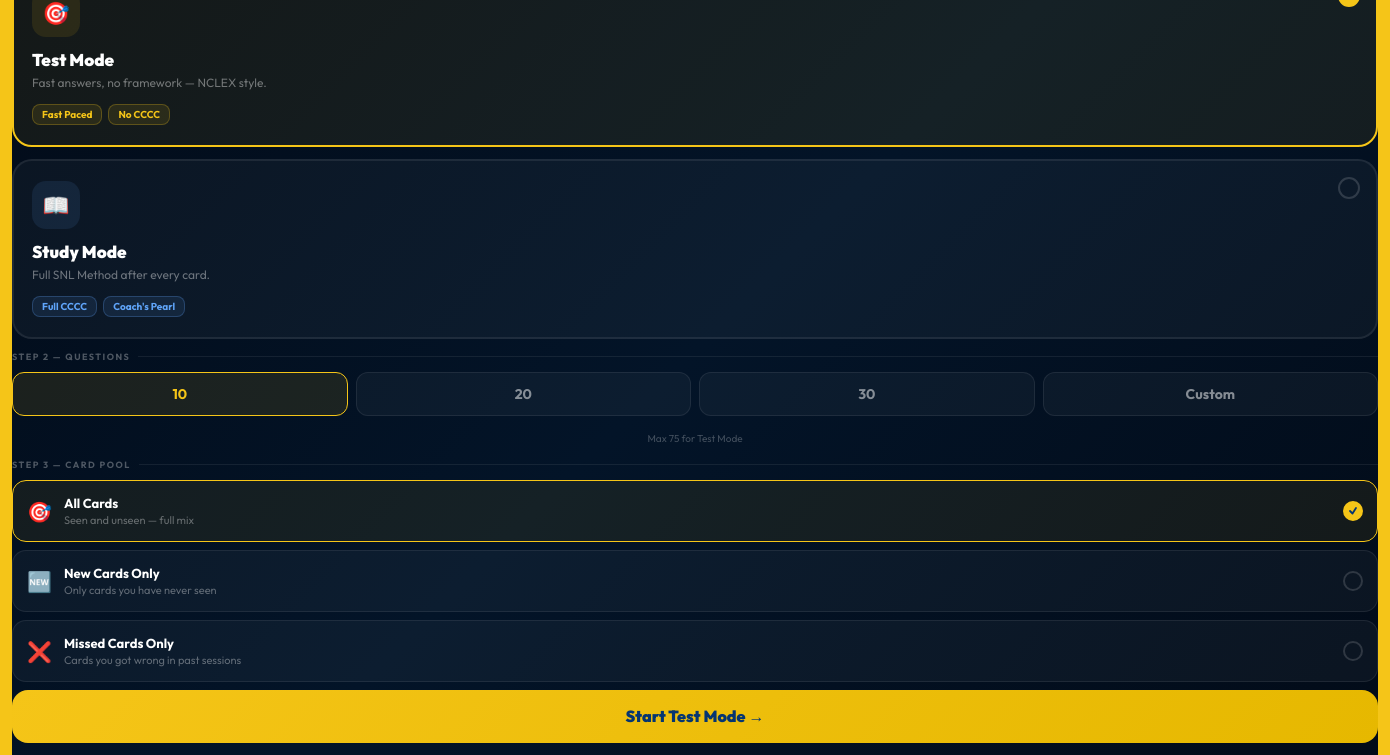
Test: SessionSetup › shows error when fetch throws
(page scrolled)
Click the button "Start Test Mode →": (695, 717) [12,690,1378,743]
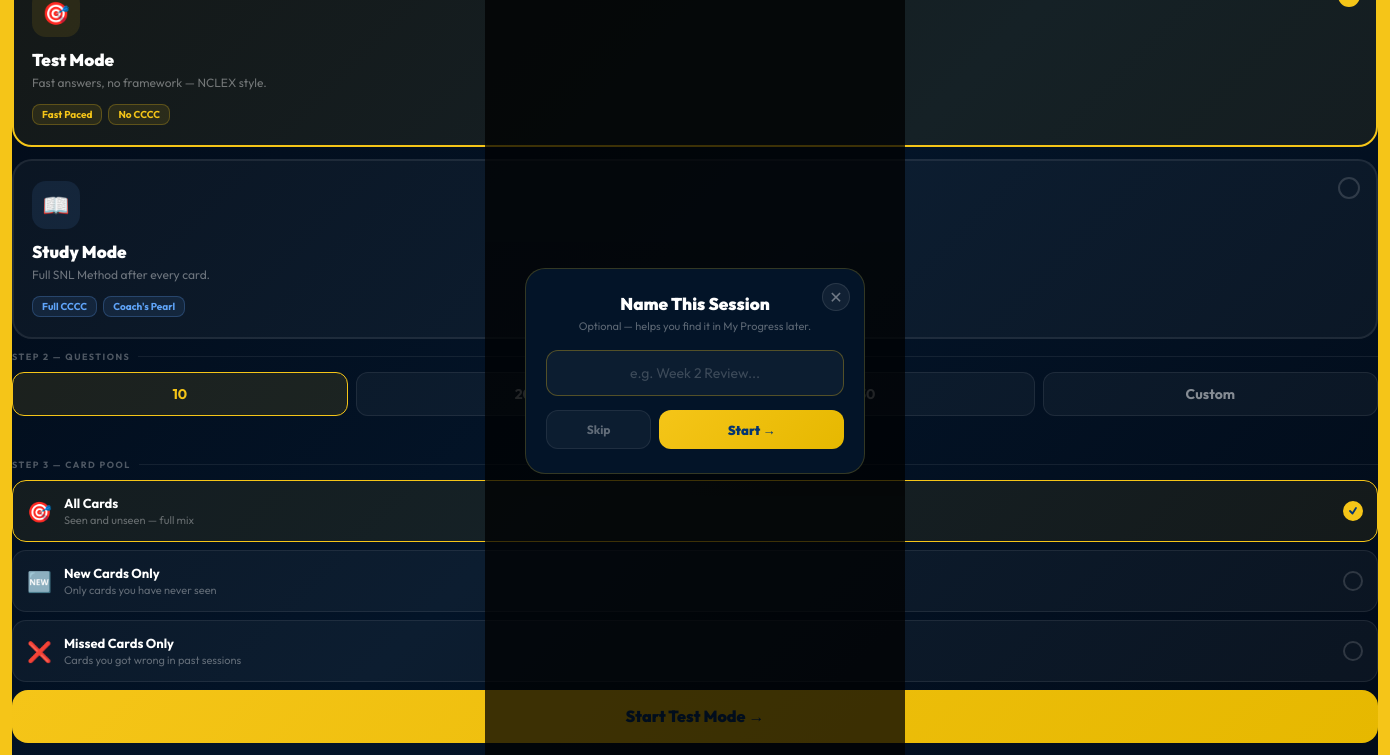
Click the button "Skip": (599, 430) [546,410,651,449]
(page scrolled)
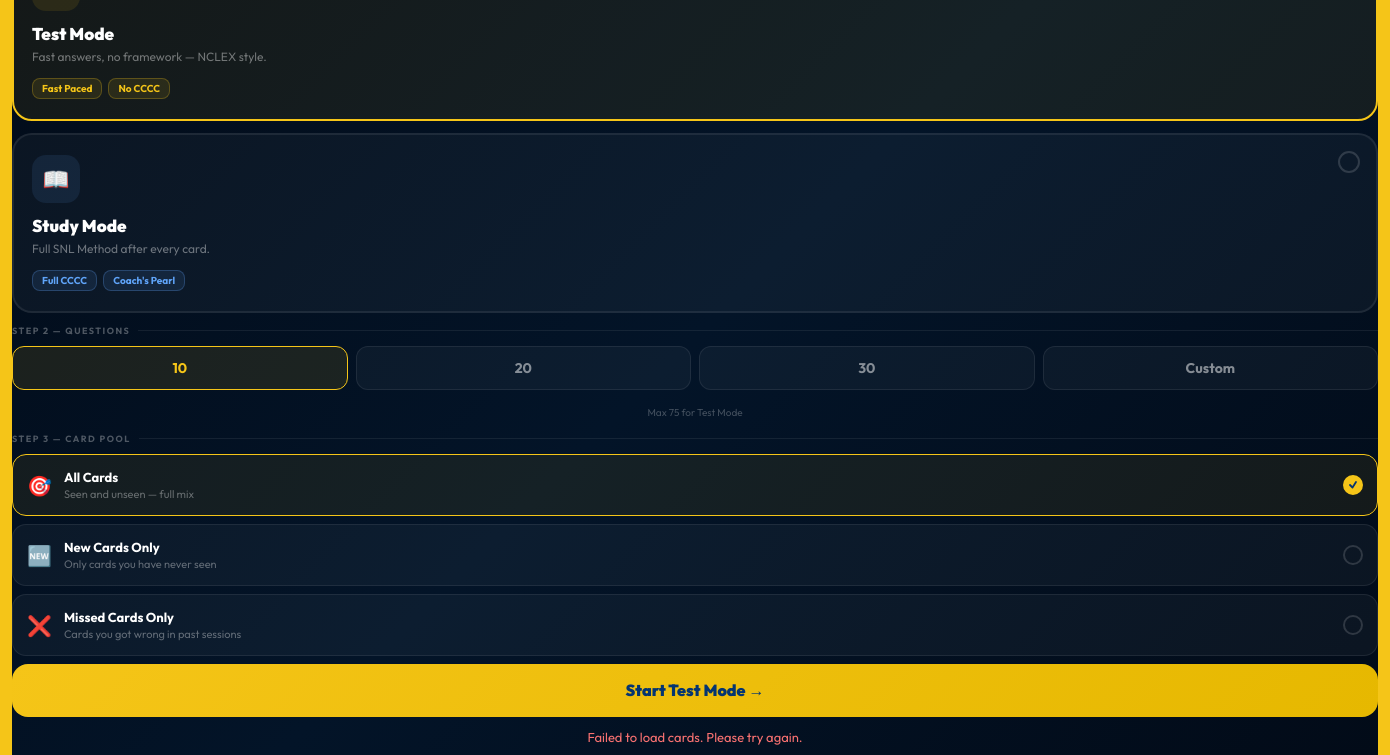
Expected: the text "Failed to load cards. Please try again." is shown, [587,729,802,745]
